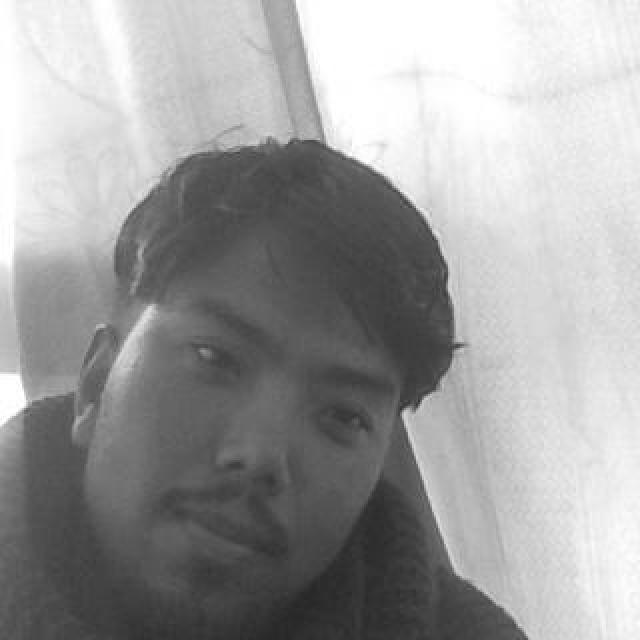Focused: (86, 216, 410, 640)
